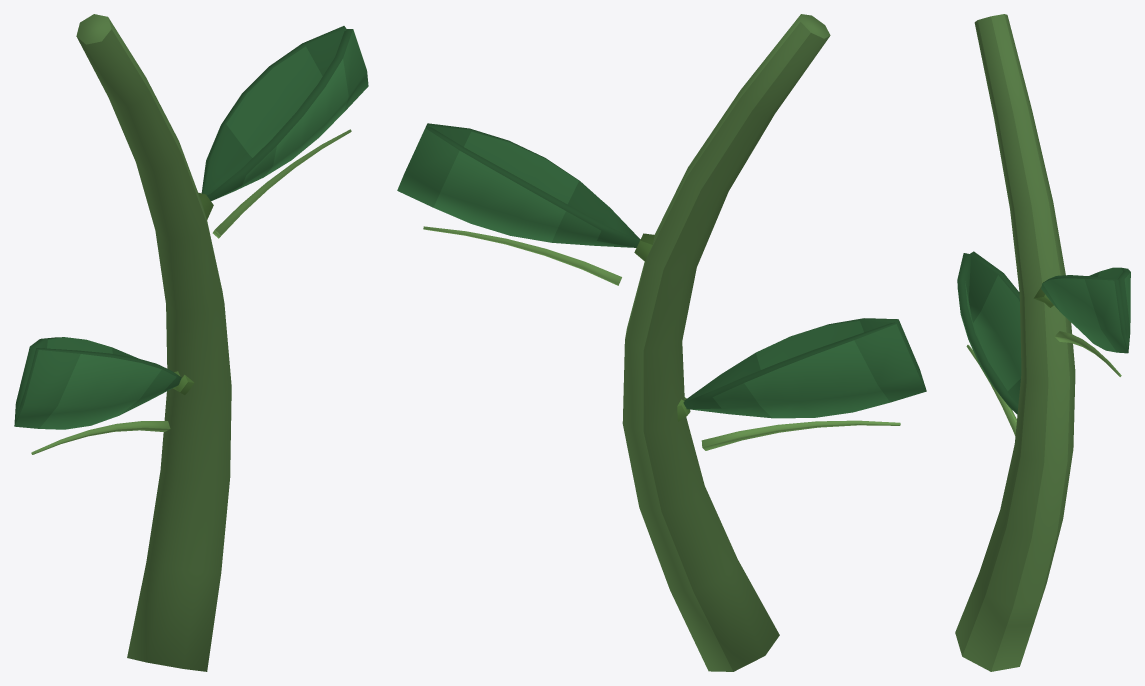
Rendered from garden-rose-sprout-stem-3.glb.
3 renders of one model, left to right at view 1: azimuth 30°, elevation 25°; view 2: azimuth 150°, elevation 25°; view 3: azimuth 270°, elevation 25°, orthographic. The views are drawn at different scales.
Visible parts, largest first — view 1: rose-sprout-stem-3; view 2: rose-sprout-stem-3; view 3: rose-sprout-stem-3.
Part boxes in pixels (x1,y1,x2,y2): rose-sprout-stem-3: (14,14,368,671); rose-sprout-stem-3: (397,14,926,671); rose-sprout-stem-3: (955,14,1130,671).
Size of the model in its own units: 0.0864 by 0.1252 by 0.0324.
